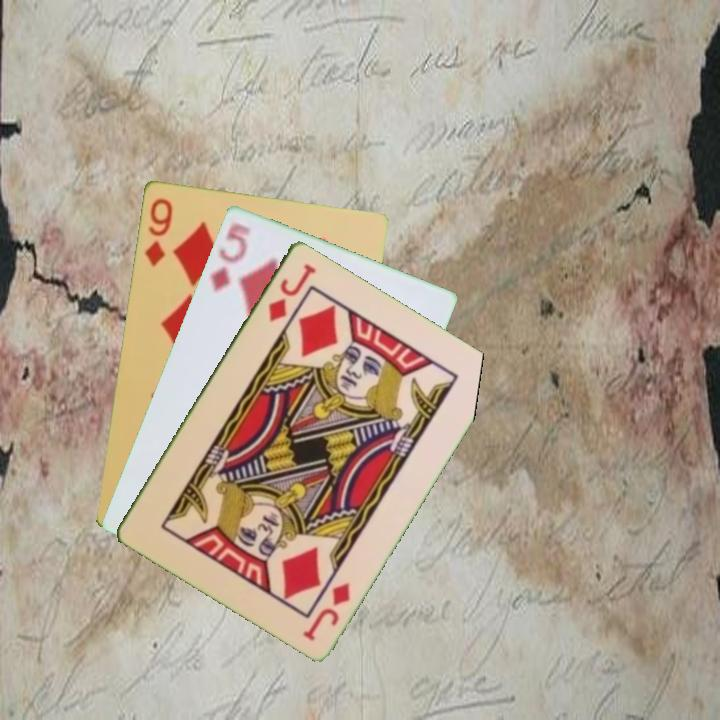5d: (206, 218, 253, 295)
9d: (140, 194, 175, 269)
Jd: (298, 578, 354, 644), (264, 259, 319, 325)
